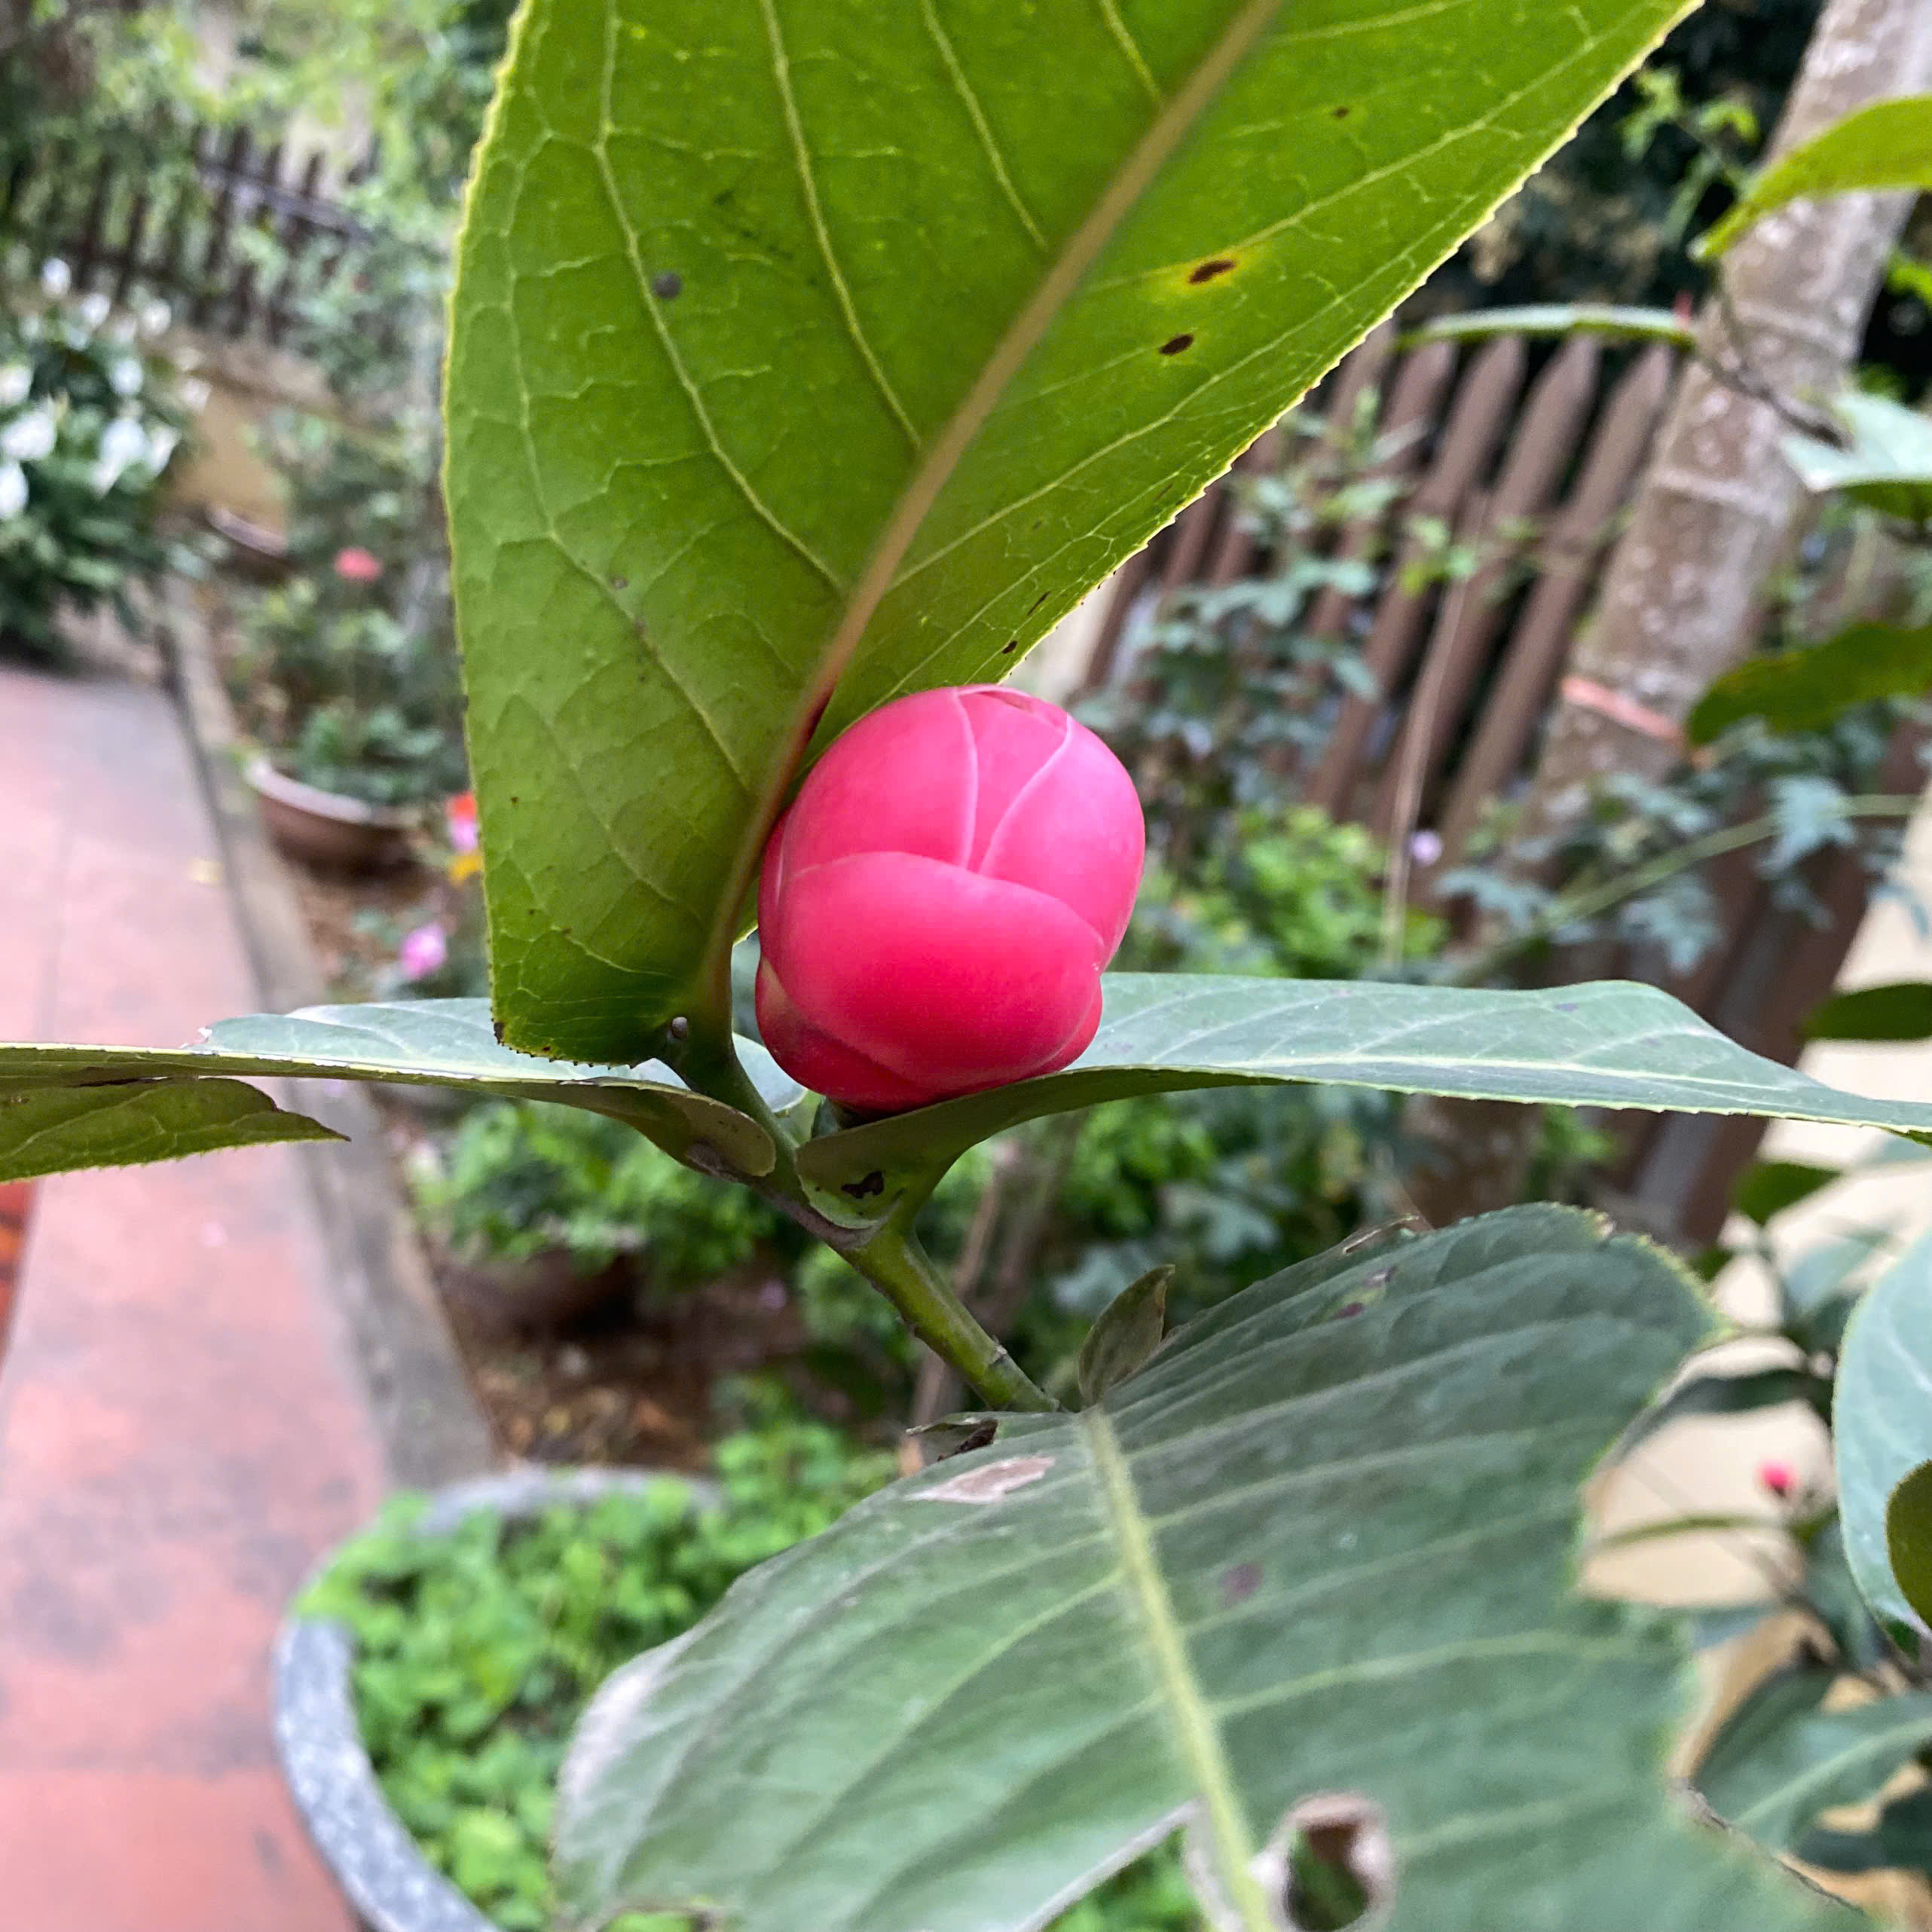hoa_hai_duong: (671, 580, 1269, 1240)
